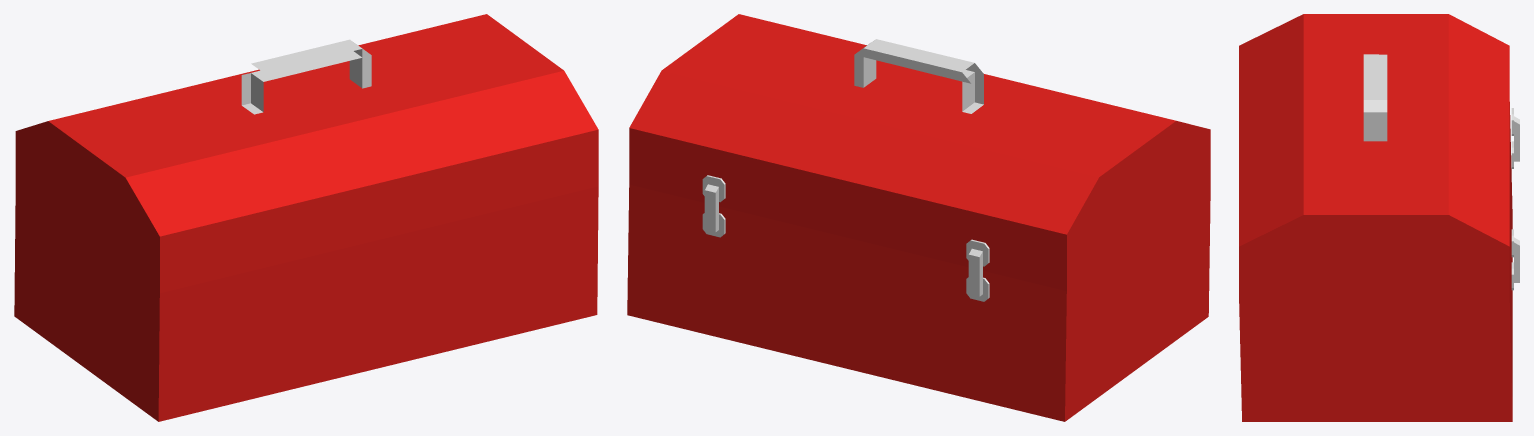
3 renders of one model, left to right at view 1: azimuth 30°, elevation 25°; view 2: azimuth 150°, elevation 25°; view 3: azimuth 270°, elevation 25°, orthographic. The views are drawn at different scales.
Visible parts, largest first — view 1: box, handle; view 2: box, handle, Cube.004, Cube; view 3: box, handle, Cube, Cube.004.
Part boxes in pixels (left/top/right/bottom): box: left=14, top=14, right=598, bottom=421; handle: left=241, top=39, right=371, bottom=114; box: left=627, top=14, right=1210, bottom=421; handle: left=854, top=39, right=983, bottom=113; Cube.004: left=966, top=239, right=989, bottom=296; Cube: left=702, top=175, right=725, bottom=232; box: left=1239, top=14, right=1512, bottom=421; handle: left=1363, top=54, right=1387, bottom=141; Cube: left=1511, top=229, right=1519, bottom=282; Cube.004: left=1511, top=108, right=1519, bottom=161.
Bounding box in the file's own units: 2 × 1.13 × 1.18.
